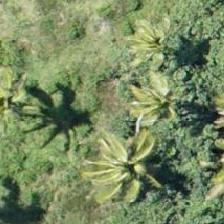coconut_tree: (79, 121, 169, 211), (108, 62, 198, 152), (116, 0, 206, 90), (0, 64, 59, 154)
